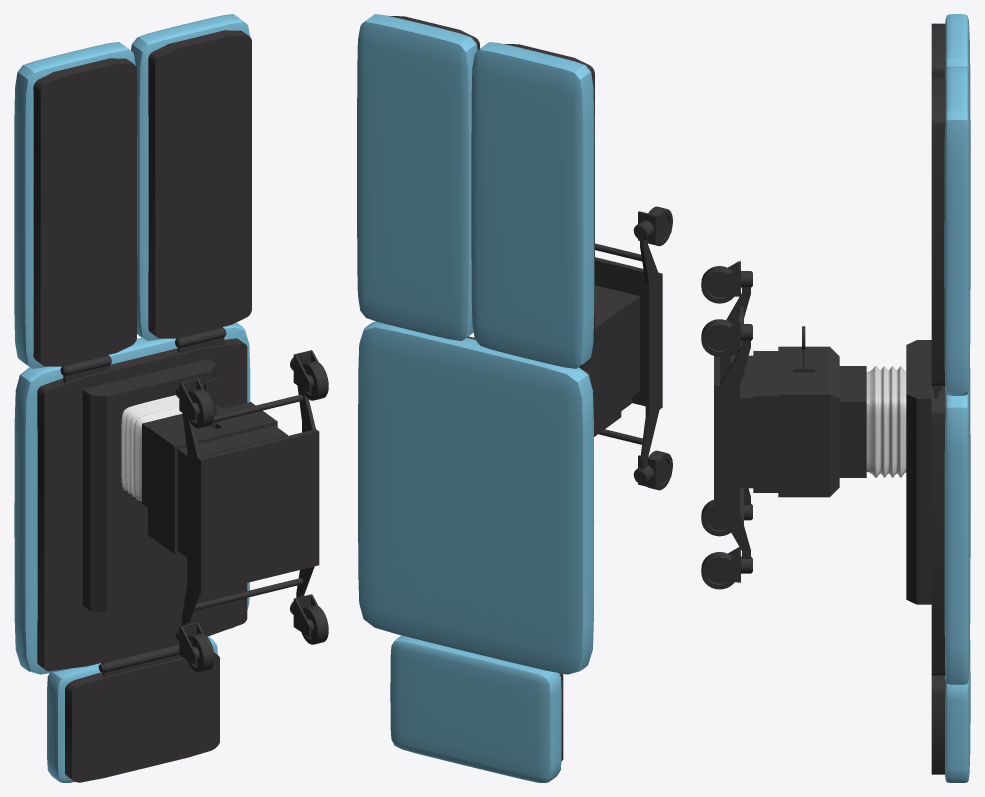
Rendered from Bed.fbx.
3 views of the same model, side by side, from view 1: azimuth 30°, elevation 25°; view 2: azimuth 150°, elevation 25°; view 3: azimuth 270°, elevation 25° (orthographic). The views are drawn at different scales.
Visible parts, largest first — view 1: Bed; view 2: Bed; view 3: Bed.
Part boxes in pixels (box(x1,y1,x2,y2)): Bed: box(14, 14, 328, 782); Bed: box(357, 14, 672, 782); Bed: box(701, 14, 970, 782).
Size of the model in its own units: 69.63 by 210 by 74.4.
